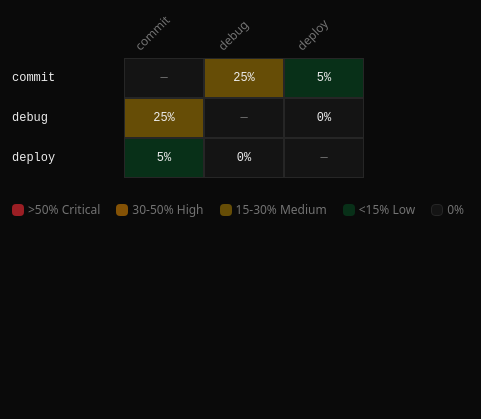
it: CollisionHeatmap › shows detail panel when cell clicked
This screenshot has width=481, height=419.
Click the 1st text "25%" at (244, 78), box [204,58,284,98]
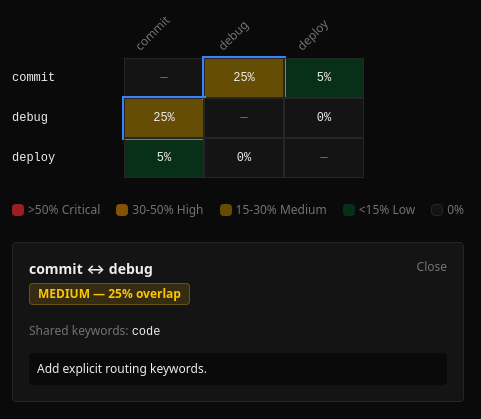
Expected: the heading "commit ↔ debug" is shown, [29,259,153,278]
